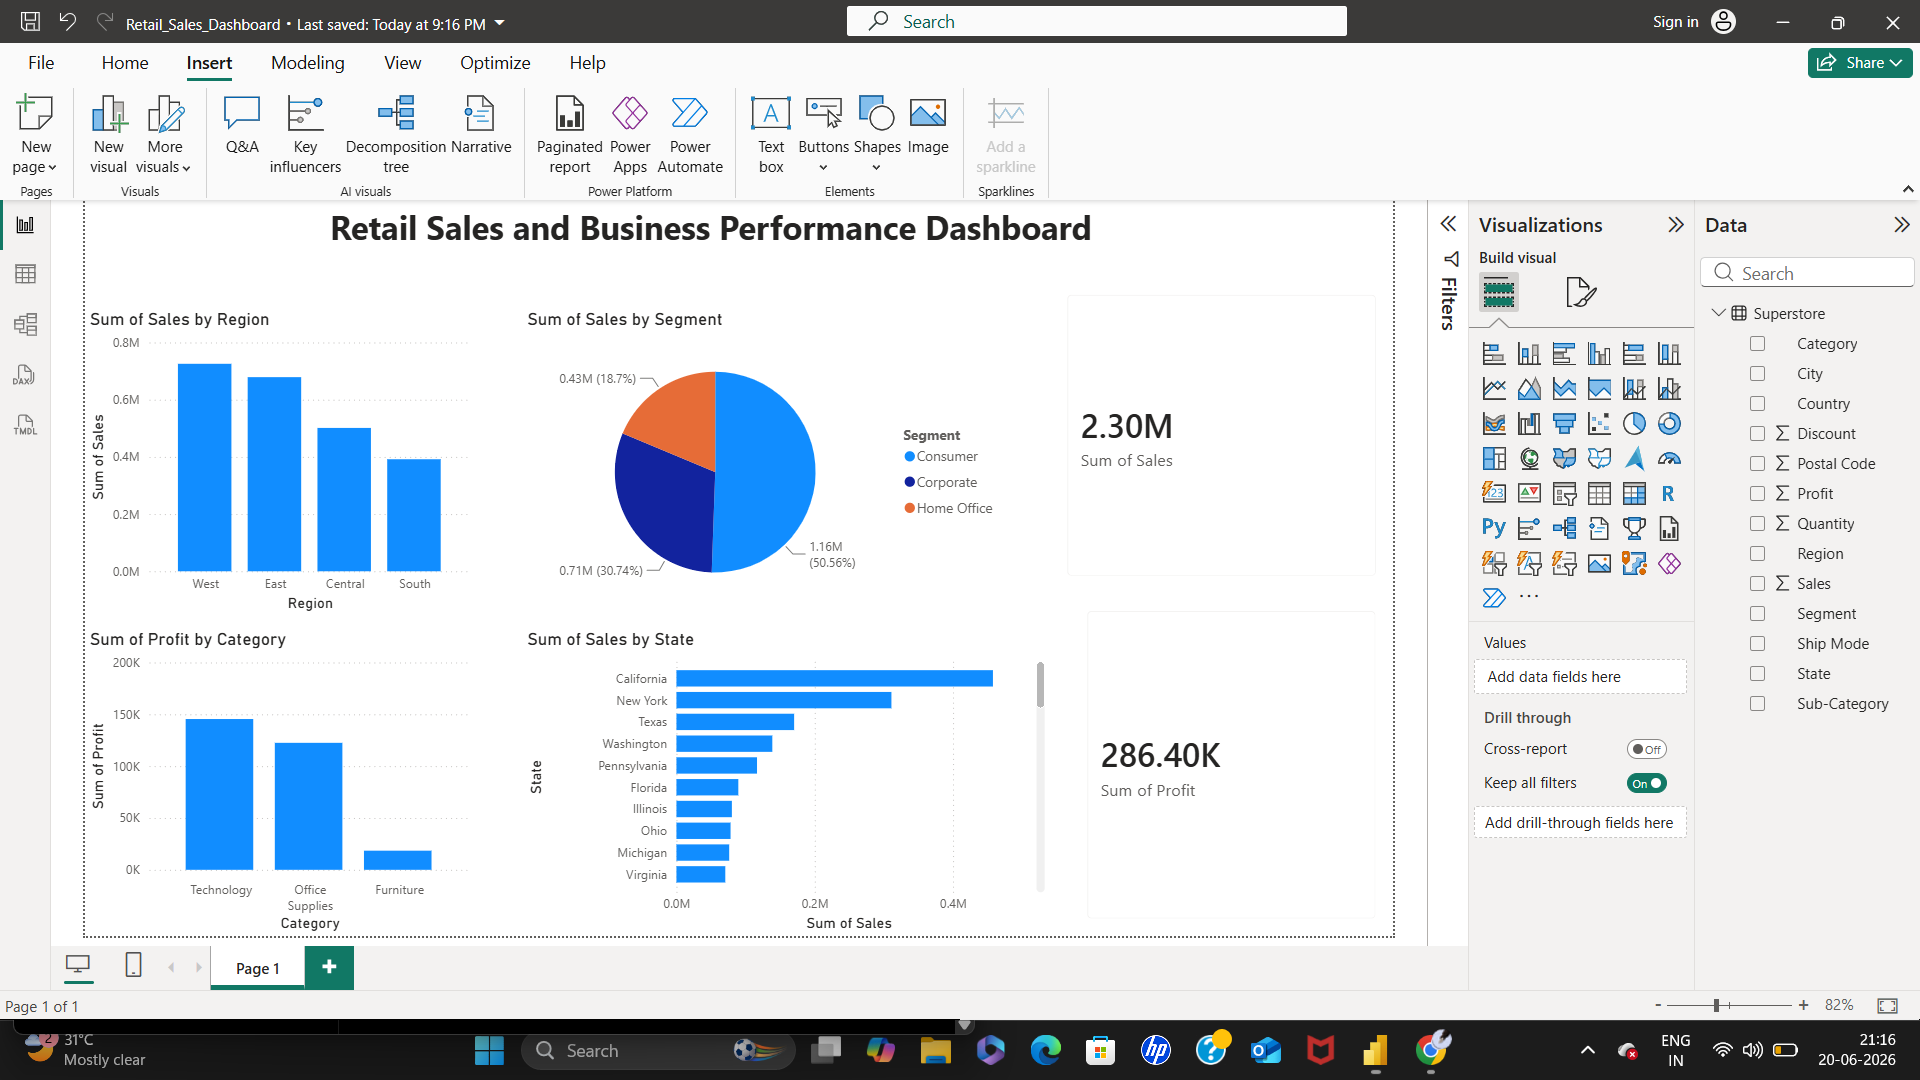

The dashboard page shown, as its layout file describes it:
{"tool":"powerbi","page":{"name":"Page 1","canvas":[1280,720],"ordinal":0},"visuals":[{"type":"clusteredColumnChart","fields":{"Y":["Sum(Superstore.Sales)"],"Category":["Superstore.Region"]},"box":[0,106.4,382.7,300.8],"z":3},{"type":"clusteredColumnChart","fields":{"Category":["Superstore.Category"],"Y":["Sum(Superstore.Profit)"]},"box":[0,419.4,382.7,300.8],"z":4},{"type":"pieChart","fields":{"Category":["Superstore.Segment"],"Y":["Sum(Superstore.Sales)"]},"box":[428,106.4,474.5,300.8],"z":5},{"type":"clusteredBarChart","fields":{"Category":["Superstore.State"],"Y":["Sum(Superstore.Sales)"]},"box":[428,419.4,516,300.8],"z":6},{"type":"cardVisual","fields":{"Data":["Sum(Superstore.Sales)"]},"box":[944,75.8,336.3,309.4],"z":7},{"type":"cardVisual","fields":{"Data":["Sum(Superstore.Profit)"]},"box":[963.6,385.2,316.7,335.1],"z":8},{"type":"textbox","box":[234.8,0,830.3,84.4],"z":9}]}

Visuals, with their boxes on the page's 1280x720 design canvas (x1, y1, x2, y2). These are canvas units, not pixel positions in the 1920x1080 screenshot, which may show the page scaled, cropped or inside an application window:
clusteredColumnChart - Sum(Superstore.Sales) x Superstore.Region: bbox=[0, 106, 383, 407]
clusteredColumnChart - Superstore.Category x Sum(Superstore.Profit): bbox=[0, 419, 383, 720]
pieChart - Superstore.Segment x Sum(Superstore.Sales): bbox=[428, 106, 902, 407]
clusteredBarChart - Superstore.State x Sum(Superstore.Sales): bbox=[428, 419, 944, 720]
cardVisual - Sum(Superstore.Sales): bbox=[944, 76, 1280, 385]
cardVisual - Sum(Superstore.Profit): bbox=[964, 385, 1280, 720]
textbox: bbox=[235, 0, 1065, 84]
